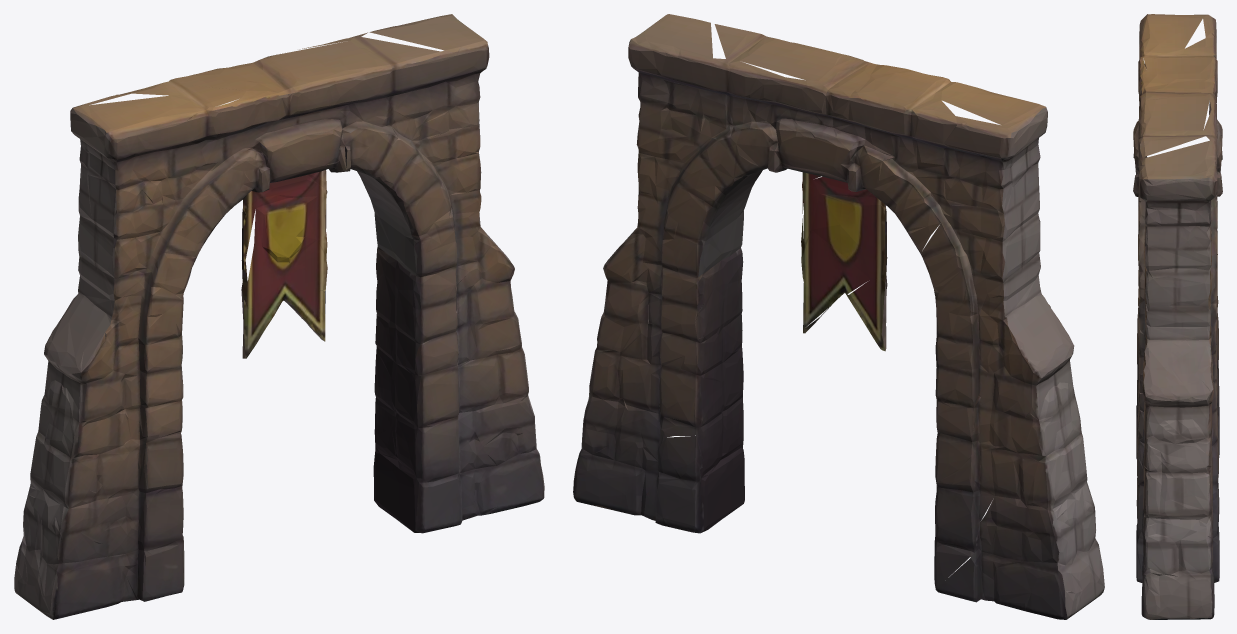
The model's file is gate.glb.
3 views of the same model, side by side, from view 1: azimuth 30°, elevation 25°; view 2: azimuth 150°, elevation 25°; view 3: azimuth 270°, elevation 25° (orthographic). The views are drawn at different scales.
Visible parts, largest first — view 1: geometry_0; view 2: geometry_0; view 3: geometry_0.
Part boxes in pixels (x1,y1,x2,y2): geometry_0: (14, 14, 544, 619); geometry_0: (573, 14, 1104, 619); geometry_0: (1133, 14, 1222, 619).
Size of the model in its own units: 4.4 by 4.02 by 0.7798.
1 material, 1 textured.
